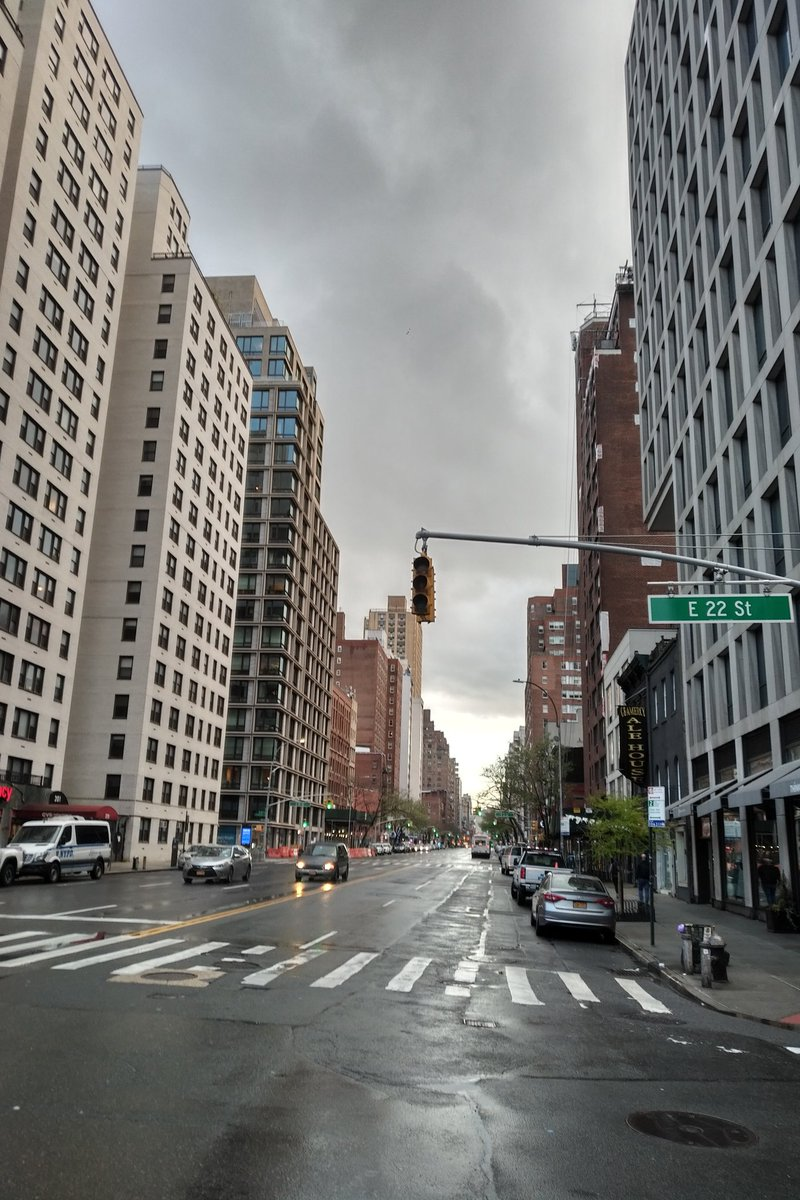building: (614, 27, 800, 918), (1, 29, 153, 868), (107, 159, 246, 859), (557, 320, 686, 894), (236, 279, 342, 844), (312, 588, 429, 831), (512, 577, 597, 855)
car: (520, 866, 618, 944), (175, 825, 255, 901), (294, 834, 345, 892)
crosswalk: (1, 909, 699, 1036)
sidewalk: (657, 892, 788, 1023)
sky: (120, 10, 651, 716)
street: (1, 838, 758, 1188)
van: (1, 809, 127, 883)
